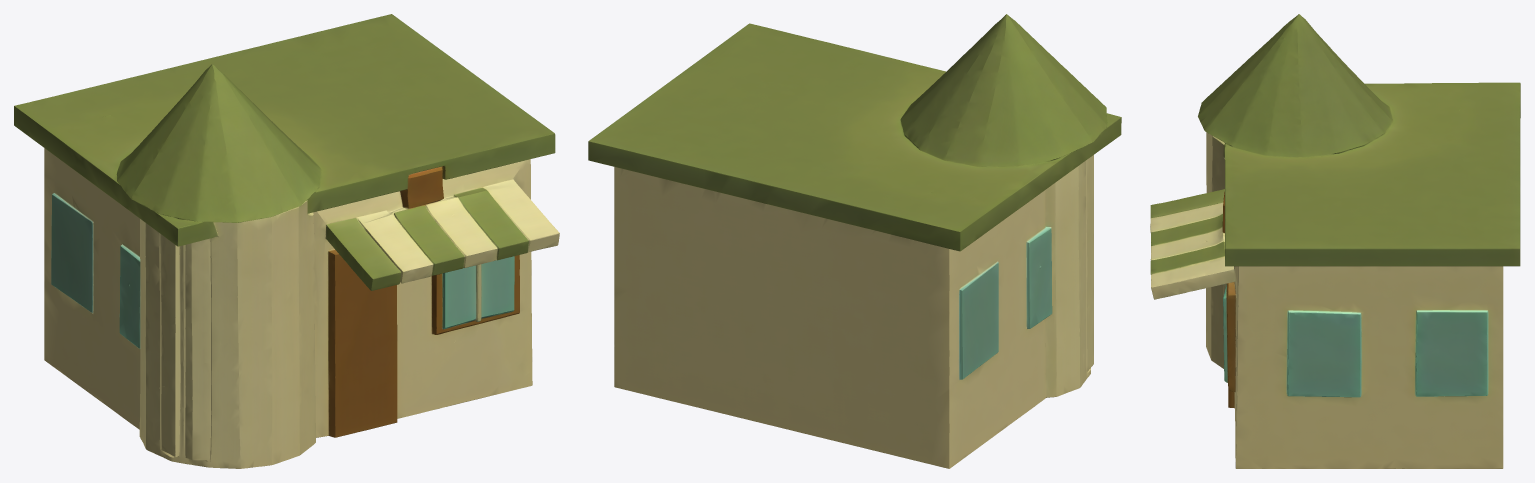
3 views of the same model, side by side, from view 1: azimuth 30°, elevation 25°; view 2: azimuth 150°, elevation 25°; view 3: azimuth 270°, elevation 25° (orthographic). The views are drawn at different scales.
Visible parts, largest first — view 1: model; view 2: model; view 3: model.
Boxes of the visible parts, x1,y1,x2,y2 form: model: (14,14,559,468); model: (588,14,1121,468); model: (1150,14,1520,468).
Size of the model in its own units: 1.9 by 1.72 by 1.75.
1 material, 1 textured.
